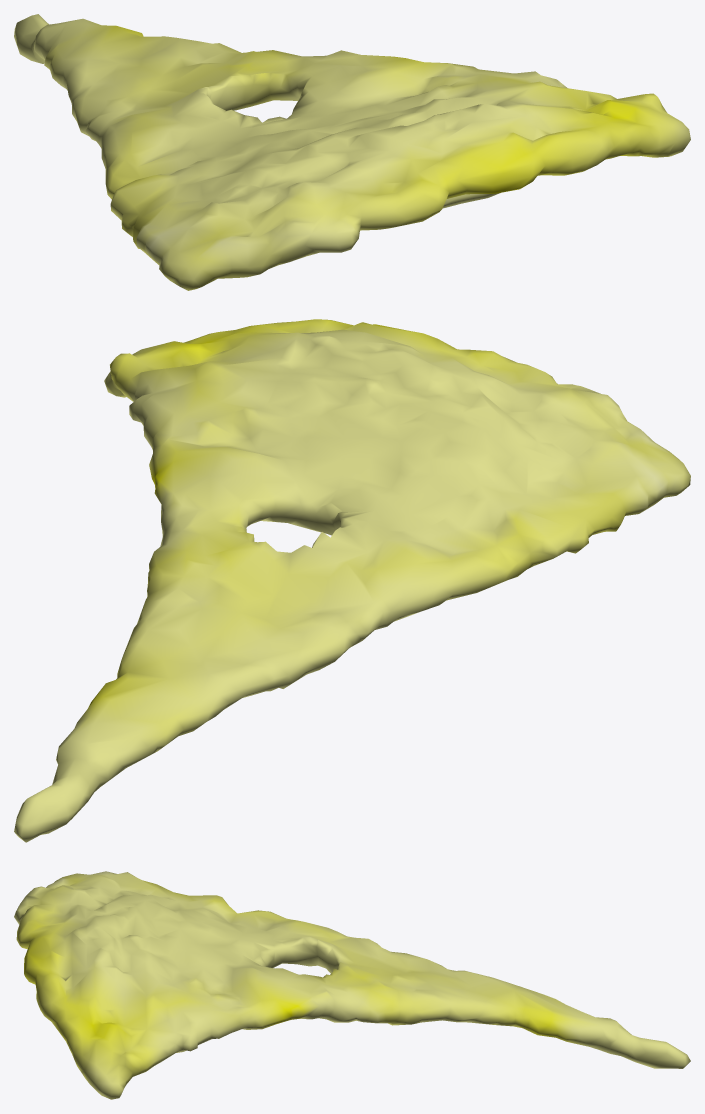
3 renders of one model, top to bottom at view 1: azimuth 30°, elevation 25°; view 2: azimuth 150°, elevation 25°; view 3: azimuth 270°, elevation 25°, orthographic. The views are drawn at different scales.
Parts seen in each view (by area): view 1: LOD 1_12822544702743451033_820756dedd5b3434c8e6bed8ae6a193b; view 2: LOD 1_12822544702743451033_820756dedd5b3434c8e6bed8ae6a193b; view 3: LOD 1_12822544702743451033_820756dedd5b3434c8e6bed8ae6a193b.
Boxes of the visible parts, x1,y1,x2,y2 form: LOD 1_12822544702743451033_820756dedd5b3434c8e6bed8ae6a193b: (14, 14, 690, 290); LOD 1_12822544702743451033_820756dedd5b3434c8e6bed8ae6a193b: (14, 319, 690, 842); LOD 1_12822544702743451033_820756dedd5b3434c8e6bed8ae6a193b: (14, 871, 690, 1099).
Size of the model in its own units: 3.1 by 1.07 by 4.35.
